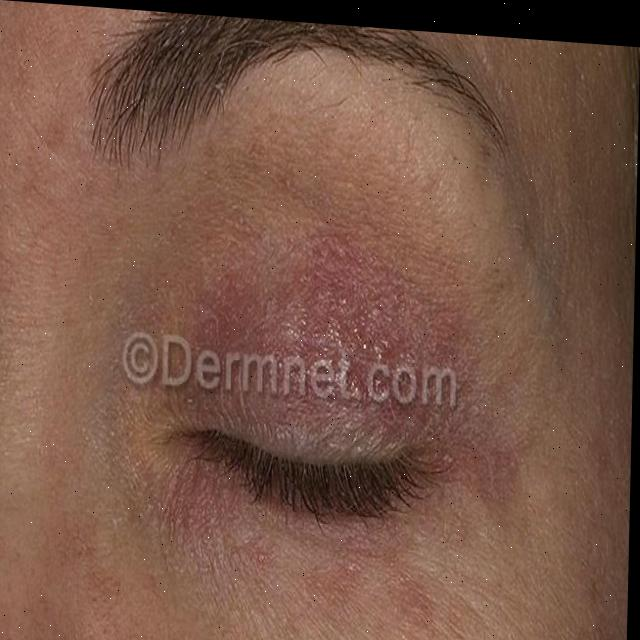Eczema: (224, 242, 443, 426)
